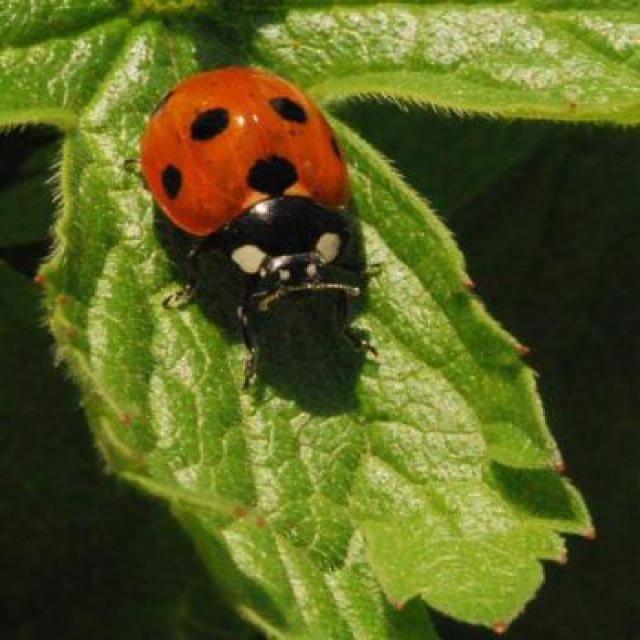antennae: (250, 257, 363, 310)
body: (143, 67, 359, 292)
insect: (127, 65, 380, 391)
legs: (163, 227, 266, 393)
wings: (143, 68, 354, 231)
